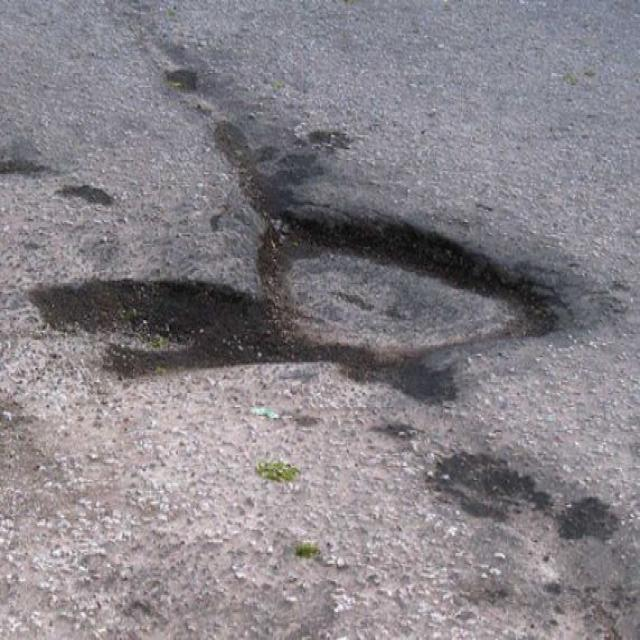Pothole: (21, 198, 575, 411), (422, 439, 618, 564)
